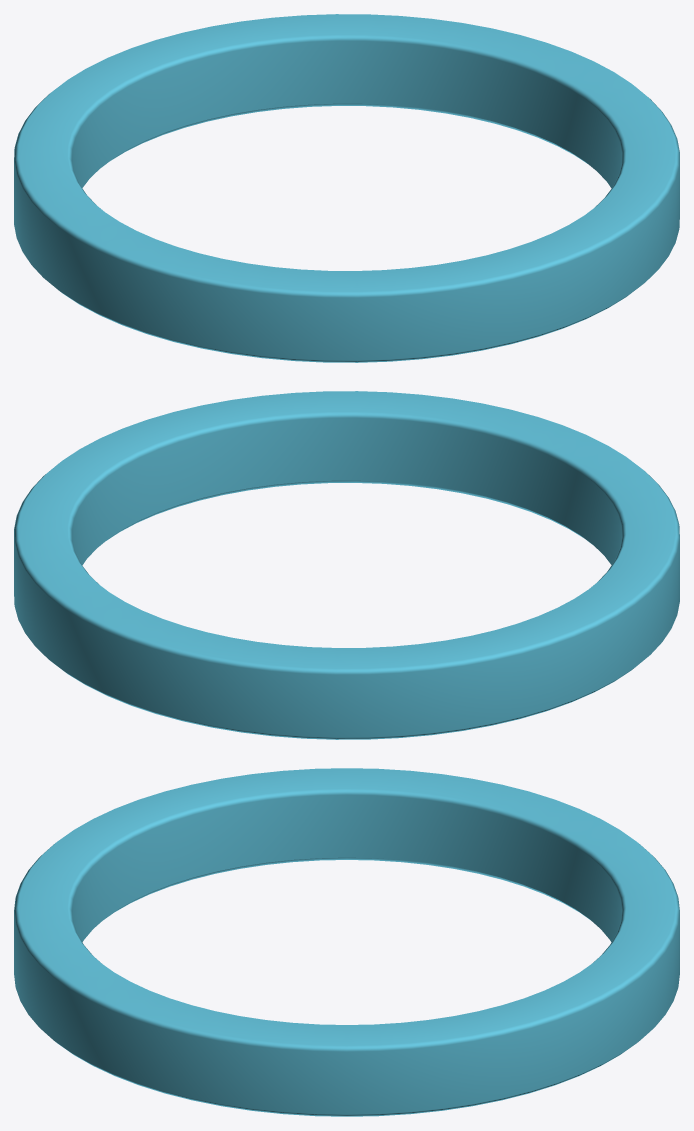
The picture shows the model from 3 angles, top to bottom: view 1: azimuth 30°, elevation 25°; view 2: azimuth 150°, elevation 25°; view 3: azimuth 270°, elevation 25°; orthographic projection.
Visible parts, largest first — view 1: seal_body; view 2: seal_body; view 3: seal_body.
Part boxes in pixels (box(x1,y1,x2,y2)): seal_body: box(14, 14, 679, 362); seal_body: box(14, 391, 679, 739); seal_body: box(14, 768, 679, 1116).
Bounding box in the file's own units: 0.0848 × 0.01 × 0.0848.
